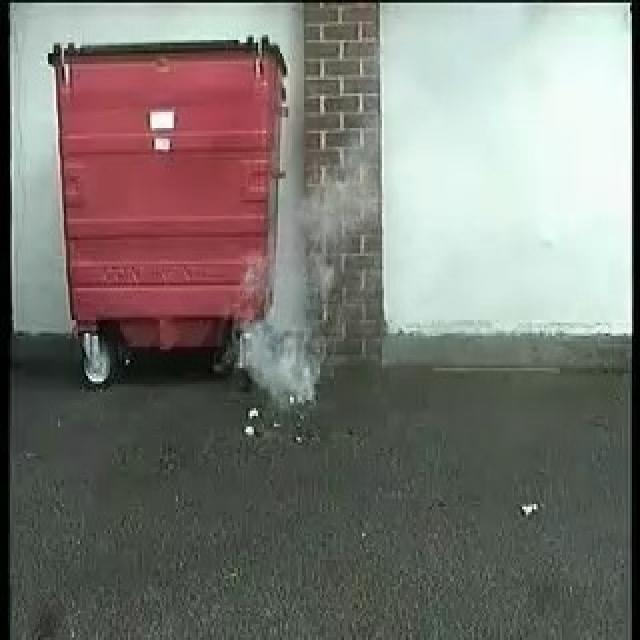smoke: (234, 222, 330, 406)
